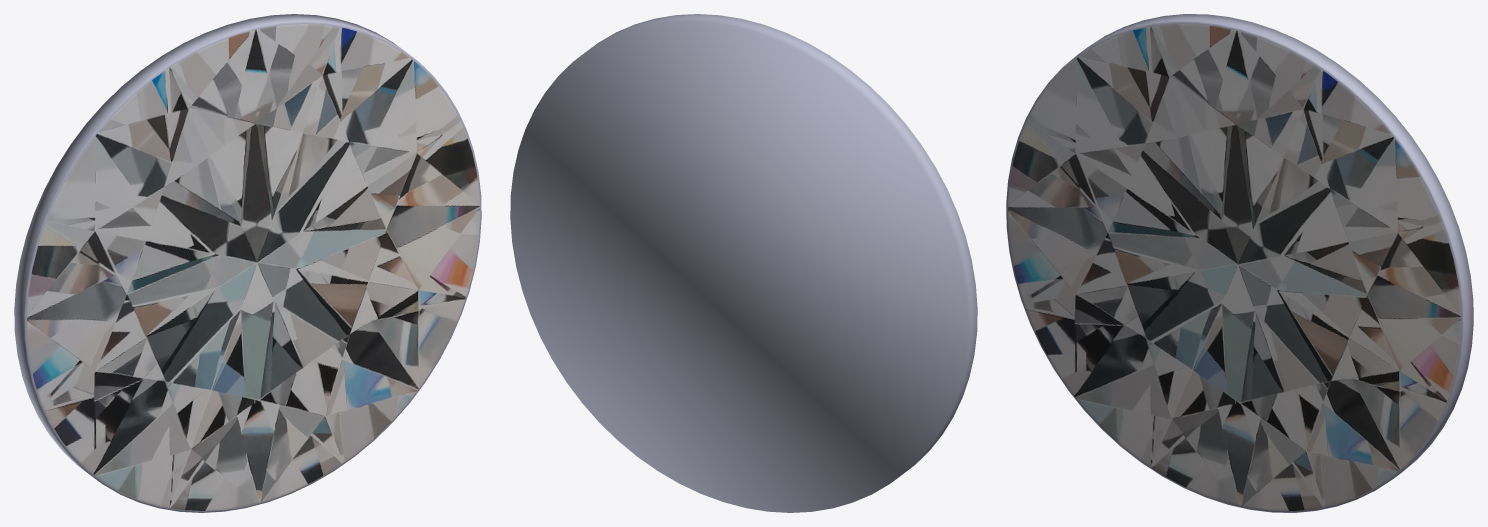
The model's file is gloria.glb.
The picture shows the model from 3 angles, left to right: view 1: azimuth 30°, elevation 25°; view 2: azimuth 150°, elevation 25°; view 3: azimuth 330°, elevation 25°; orthographic projection.
Visible parts, largest first — view 1: gloria; view 2: gloria; view 3: gloria.
Part boxes in pixels (x1,y1,x2,y2): gloria: (14, 14, 481, 512); gloria: (510, 14, 977, 512); gloria: (1006, 14, 1473, 512).
Size of the model in its own units: 0.7599 by 0.7599 by 0.03.
Materials: 2 (1 with a texture image).
